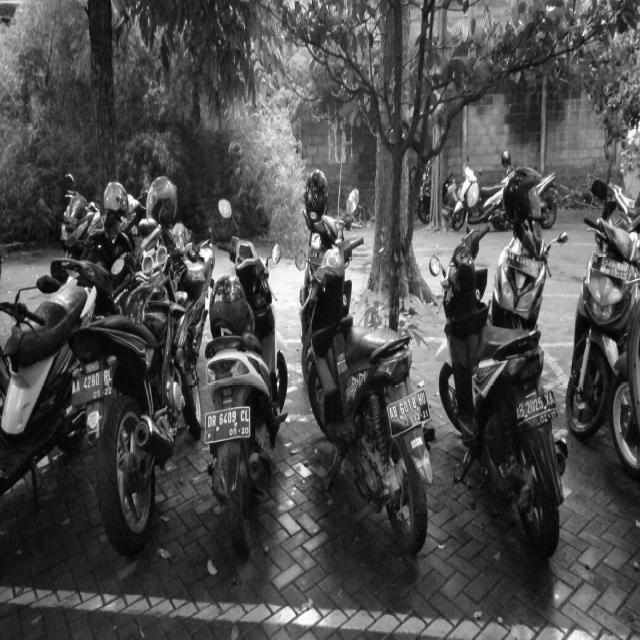license-plat: (206, 401, 252, 446)
